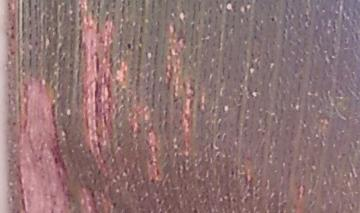tarspot: (123, 39, 136, 52)
